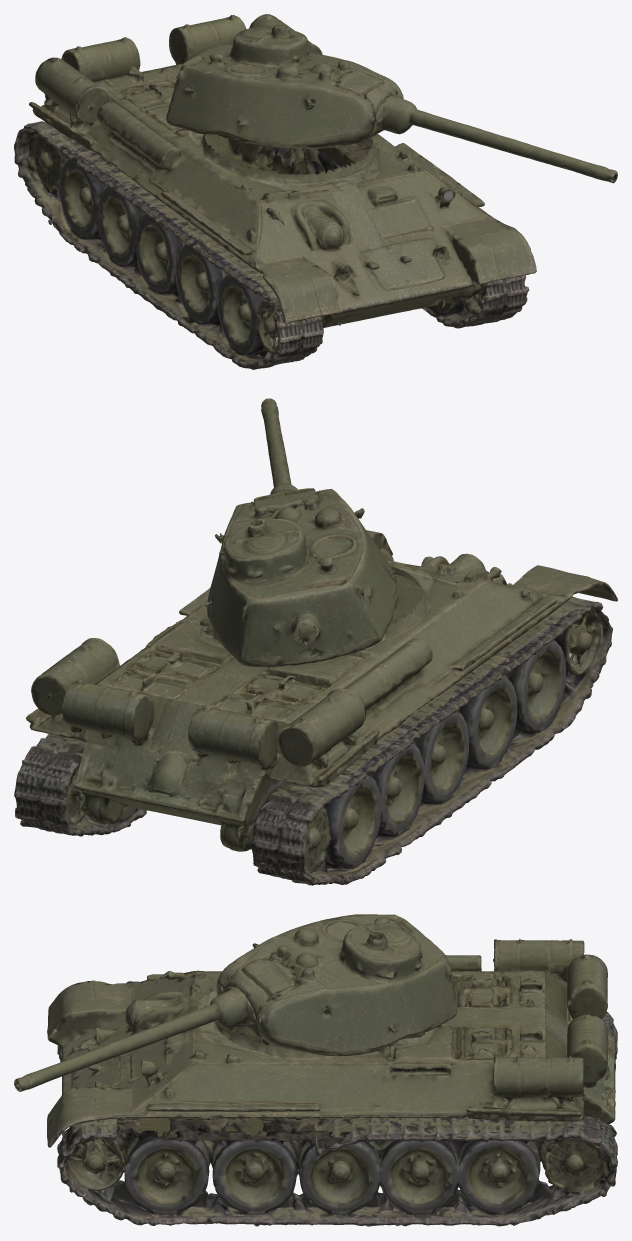
The model's file is SM_VH_T34_85_V5_Destroyed.fbx.
The picture shows the model from 3 angles, top to bottom: view 1: azimuth 30°, elevation 25°; view 2: azimuth 150°, elevation 25°; view 3: azimuth 270°, elevation 25°; orthographic projection. The views are drawn at different scales.
Parts seen in each view (by area): view 1: SM_VH_T34_85_V5_Destroyed; view 2: SM_VH_T34_85_V5_Destroyed; view 3: SM_VH_T34_85_V5_Destroyed.
Boxes of the visible parts, x1=… form: SM_VH_T34_85_V5_Destroyed: x1=14, y1=14, x2=617, y2=369; SM_VH_T34_85_V5_Destroyed: x1=14, y1=398, x2=617, y2=885; SM_VH_T34_85_V5_Destroyed: x1=14, y1=914, x2=617, y2=1226.
Bounding box in the file's own units: 363 × 251 × 559.
1 material, 1 textured.
